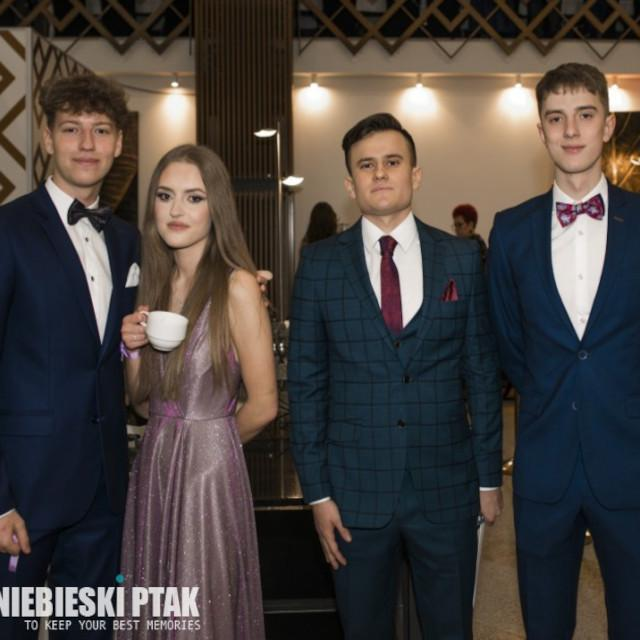kobieta: (119, 144, 276, 640), (304, 200, 338, 240), (448, 200, 478, 236)
mezczyzna: (289, 111, 500, 640), (491, 62, 639, 640), (0, 72, 126, 586)
